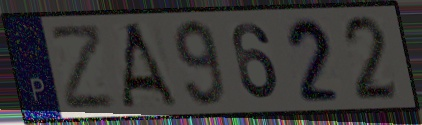2: (285, 12, 350, 109), (342, 13, 401, 102)
6: (229, 21, 281, 103)
9: (170, 16, 230, 111)
A: (119, 20, 181, 109)
Z: (47, 22, 118, 113)
